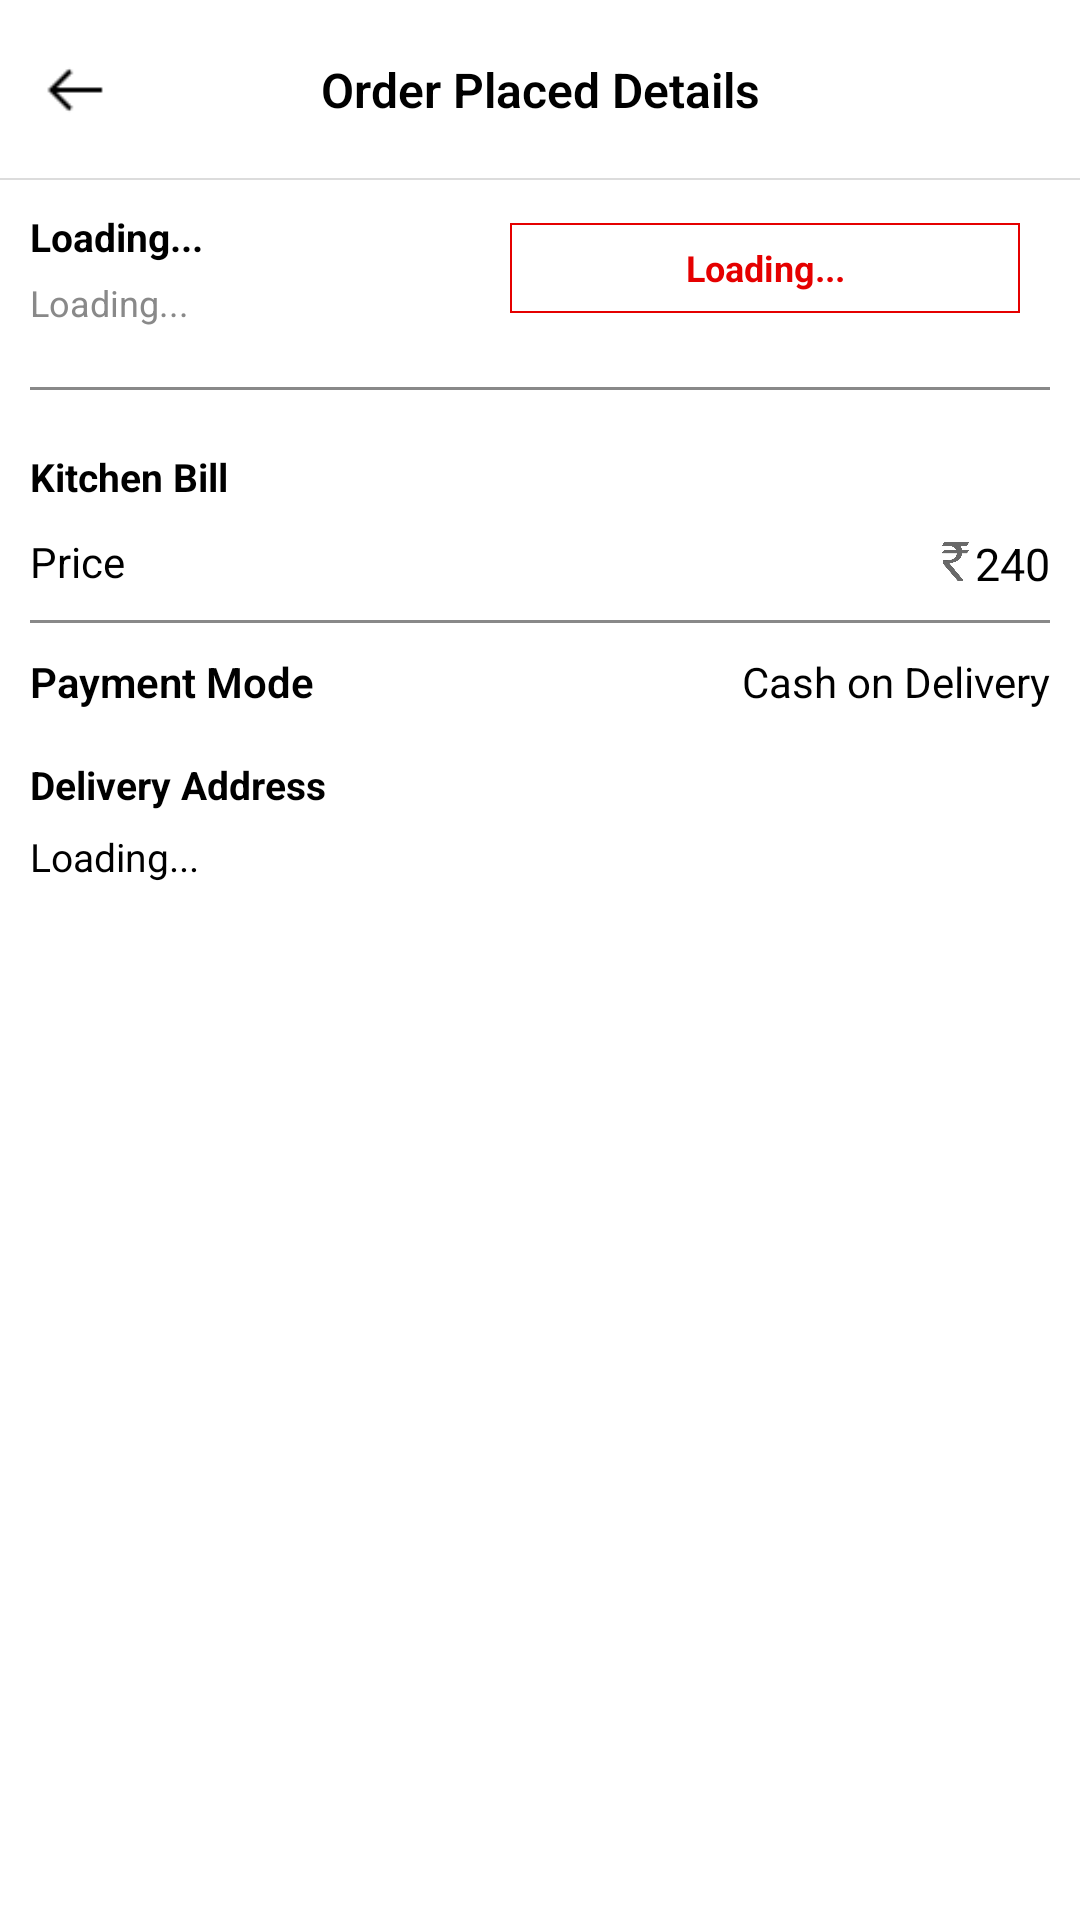

Locate icon controls on the screen. Image size 1080 × 1920, boxes as (x1, y1, x2, y2).
left arrow: (47, 69, 103, 111)
rupee: (942, 542, 969, 581)
